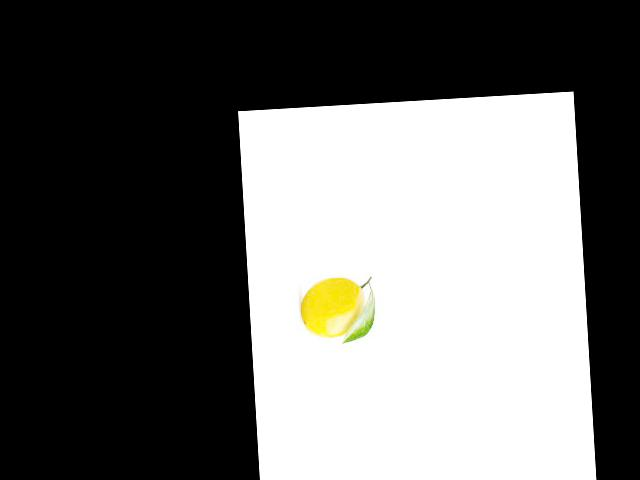lemon: (293, 271, 372, 343)
